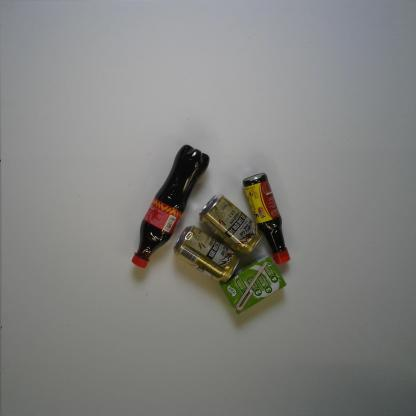Alcohol: (197, 191, 264, 259), (171, 224, 243, 285)
Drink: (130, 142, 211, 270)
Milk: (217, 253, 287, 317)
Seasoner: (241, 171, 293, 266)
